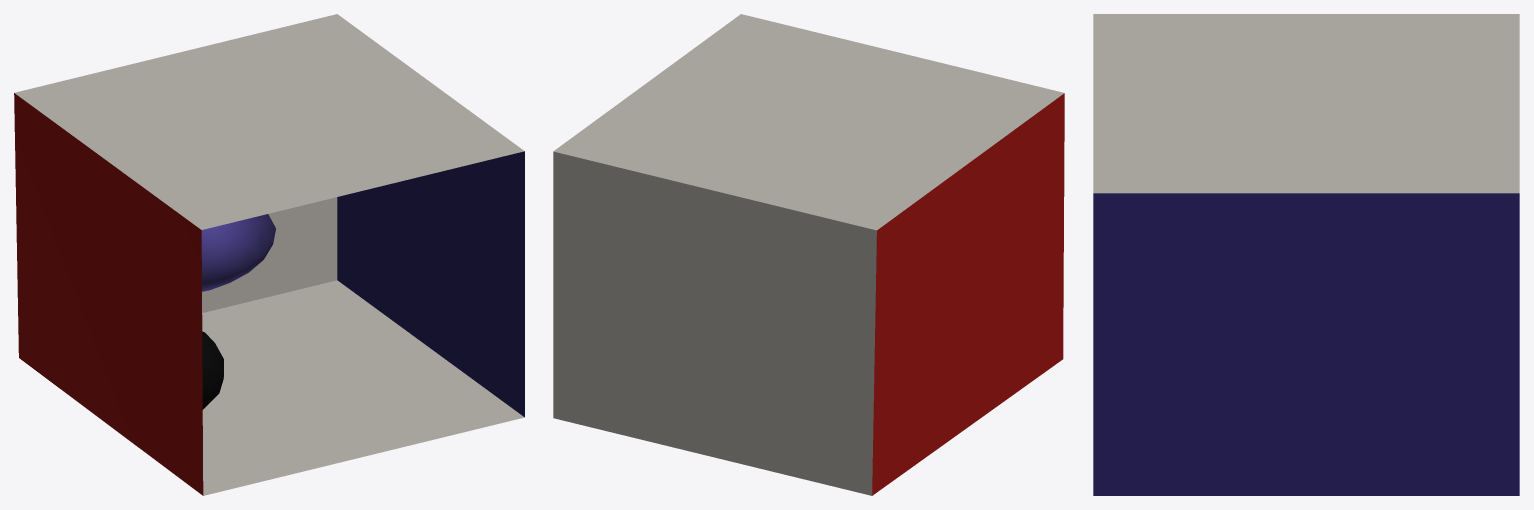
File: CornellBox-Ellipsoid-33.obj
3 views of the same model, side by side, from view 1: azimuth 30°, elevation 25°; view 2: azimuth 150°, elevation 25°; view 3: azimuth 270°, elevation 25° (orthographic). The views are drawn at different scales.
Parts seen in each view (by area): view 1: ceiling, leftWall, floor, rightWall, backWall, leftSphere, rightSphere; view 2: backWall, ceiling, leftWall; view 3: rightWall, ceiling.
Part boxes in pixels (x1,y1,x2,y2): ceiling: (14, 14, 524, 229); leftWall: (14, 93, 203, 495); floor: (202, 280, 524, 495); rightWall: (337, 151, 524, 417); backWall: (202, 197, 337, 312); leftSphere: (201, 214, 275, 291); rightSphere: (202, 331, 223, 409); backWall: (553, 151, 876, 495); ceiling: (553, 14, 1064, 230); leftWall: (872, 93, 1064, 495); rightWall: (1093, 193, 1519, 495); ceiling: (1093, 14, 1519, 193).
Size of the model in its own units: 2.02 by 1.59 by 2.03.
